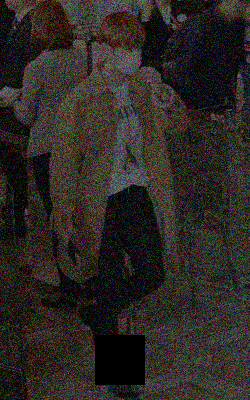with_mask: (114, 47, 143, 75)
